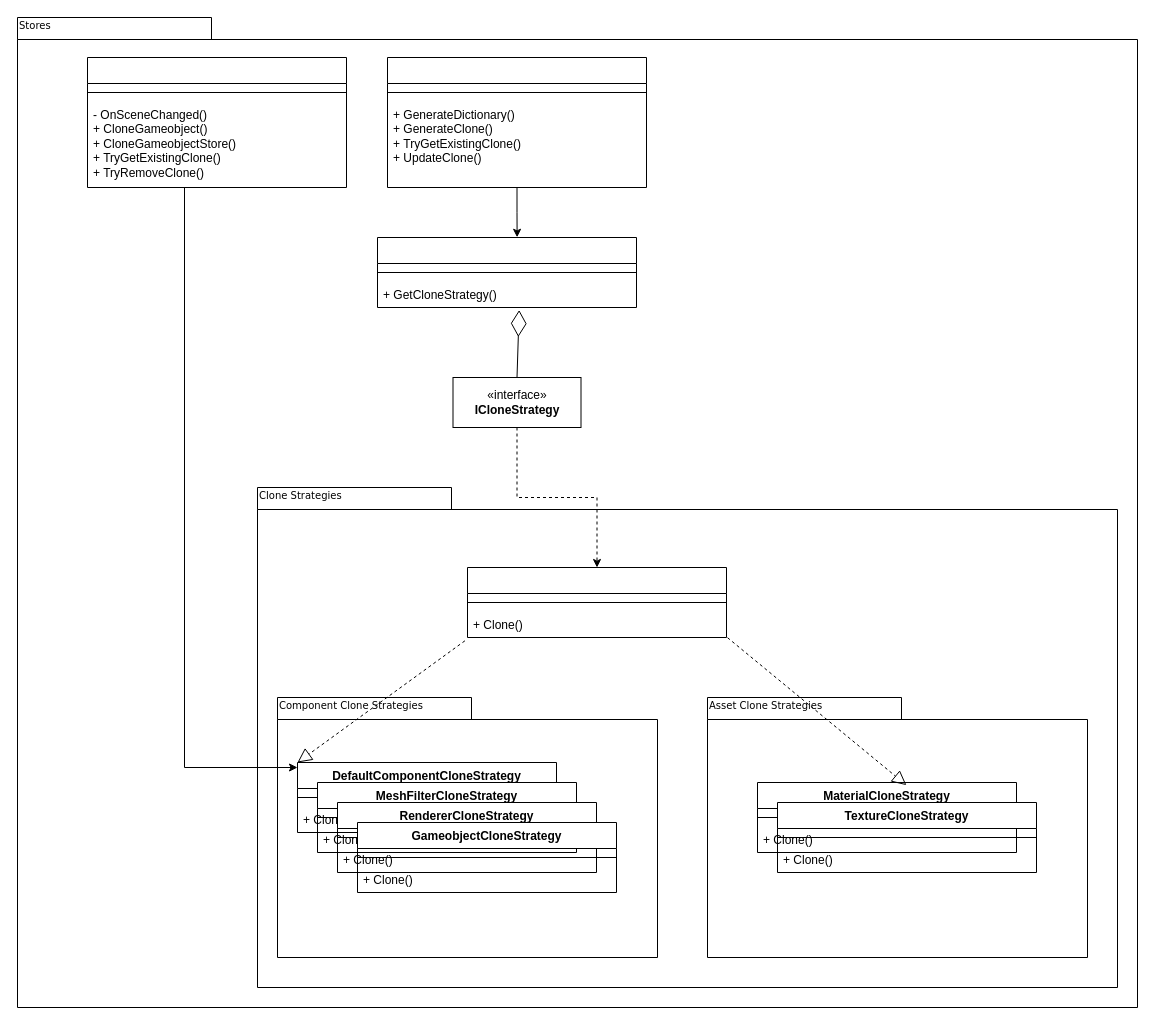
The diagram is 1155 pixels wide and 1025 high, and some of its shapes have lost their labels. Each missing label, with the box of its shape:
AssetCloneStrategyFactory: (376, 236, 636, 308)
DefaultCloneStrategy: (466, 566, 726, 638)
RTUAssetStore: (386, 56, 646, 188)
SceneGameObjectStore: (86, 56, 346, 188)
